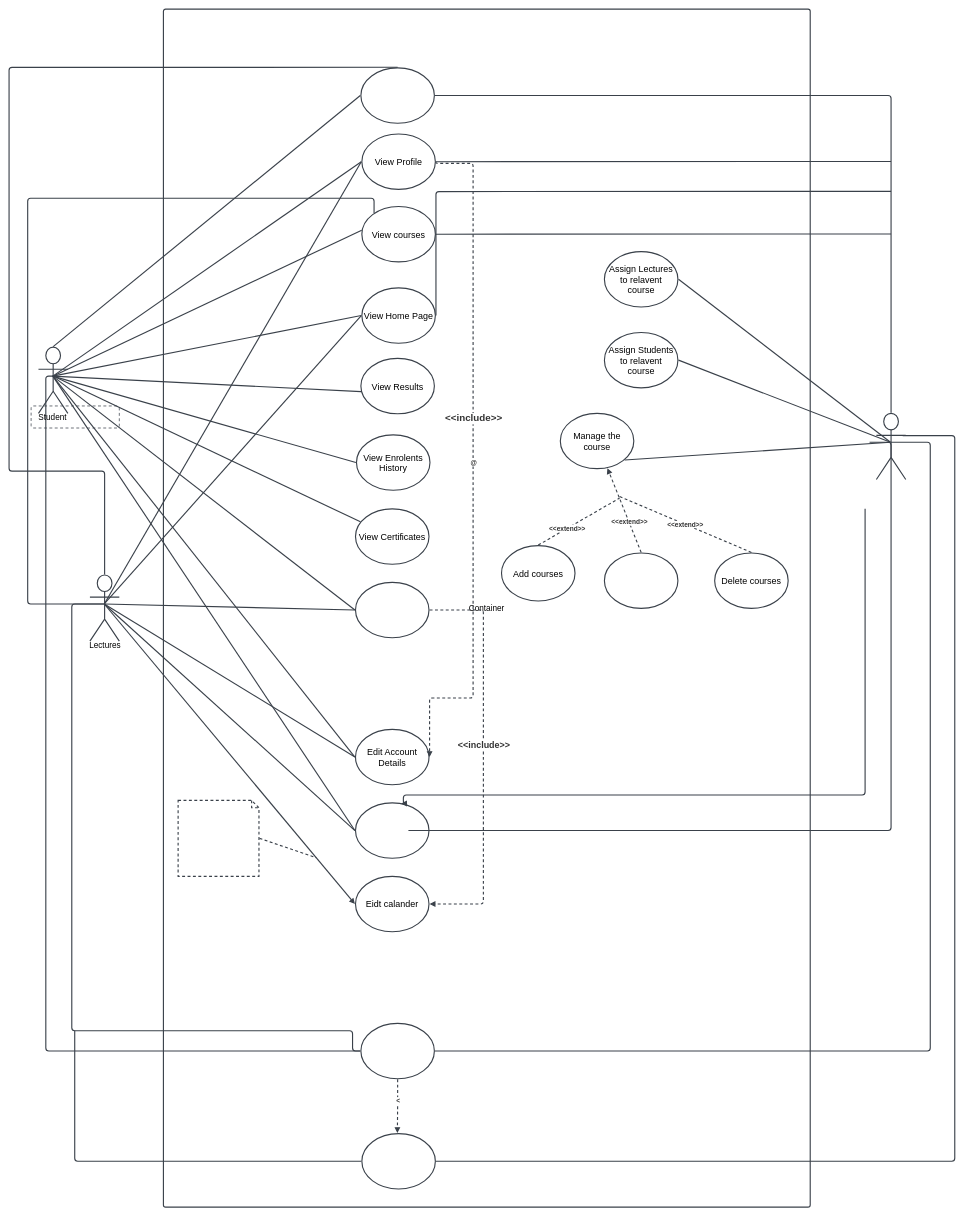
Some shapes in this 964 by 1216 pixel diagram are drawn without their labels. Here are the shapes that lost their labels. From the top down, the box of each, then its label:
(360, 67, 435, 124): Login
(876, 413, 906, 480): Admin
(604, 552, 678, 609): Update courses
(355, 582, 429, 638): View Calendar
(177, 800, 259, 877): adding, removing, or updating events, deadlines, and sessions.
(355, 802, 429, 859): Change Password
(360, 1023, 435, 1079): View Notifications
(361, 1133, 436, 1189): Manage Notifications
